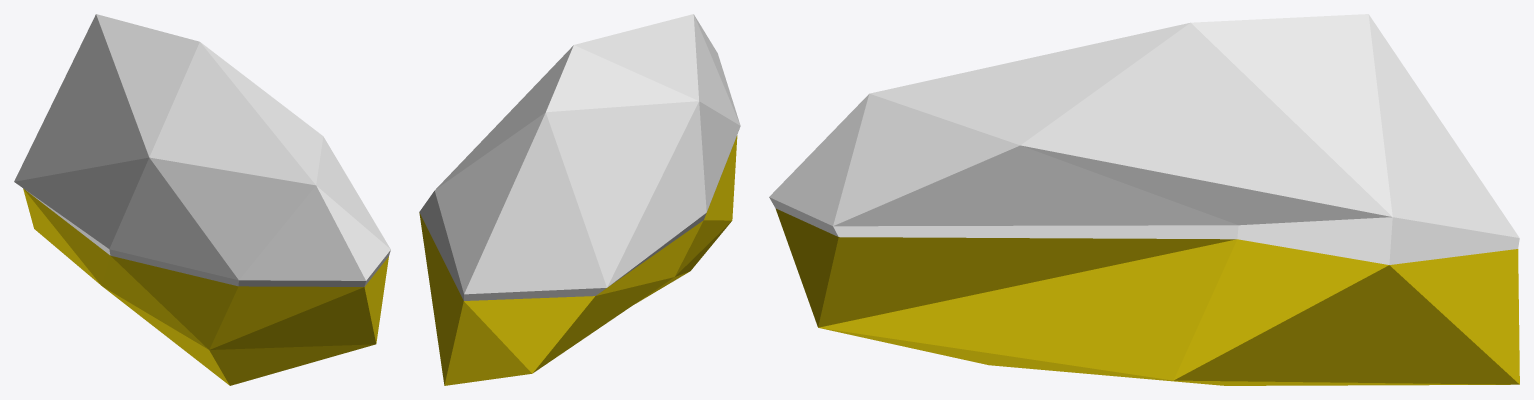
File: Bush#3_Snow.fbx
The picture shows the model from 3 angles, left to right: view 1: azimuth 30°, elevation 25°; view 2: azimuth 150°, elevation 25°; view 3: azimuth 270°, elevation 25°; orthographic projection. The views are drawn at different scales.
Visible parts, largest first — view 1: Bush#3_Snow; view 2: Bush#3_Snow; view 3: Bush#3_Snow.
Part boxes in pixels (x1,y1,x2,y2): Bush#3_Snow: [14, 14, 390, 385]; Bush#3_Snow: [419, 14, 740, 385]; Bush#3_Snow: [769, 14, 1519, 385].
Bounding box in the file's own units: 166 × 206 × 374.
